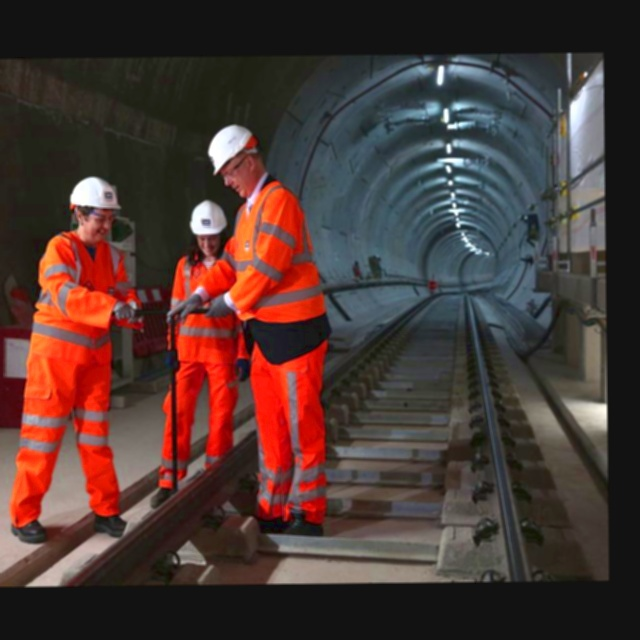Con_Chaleco: (233, 181, 325, 315), (32, 237, 131, 351), (172, 252, 244, 365)
